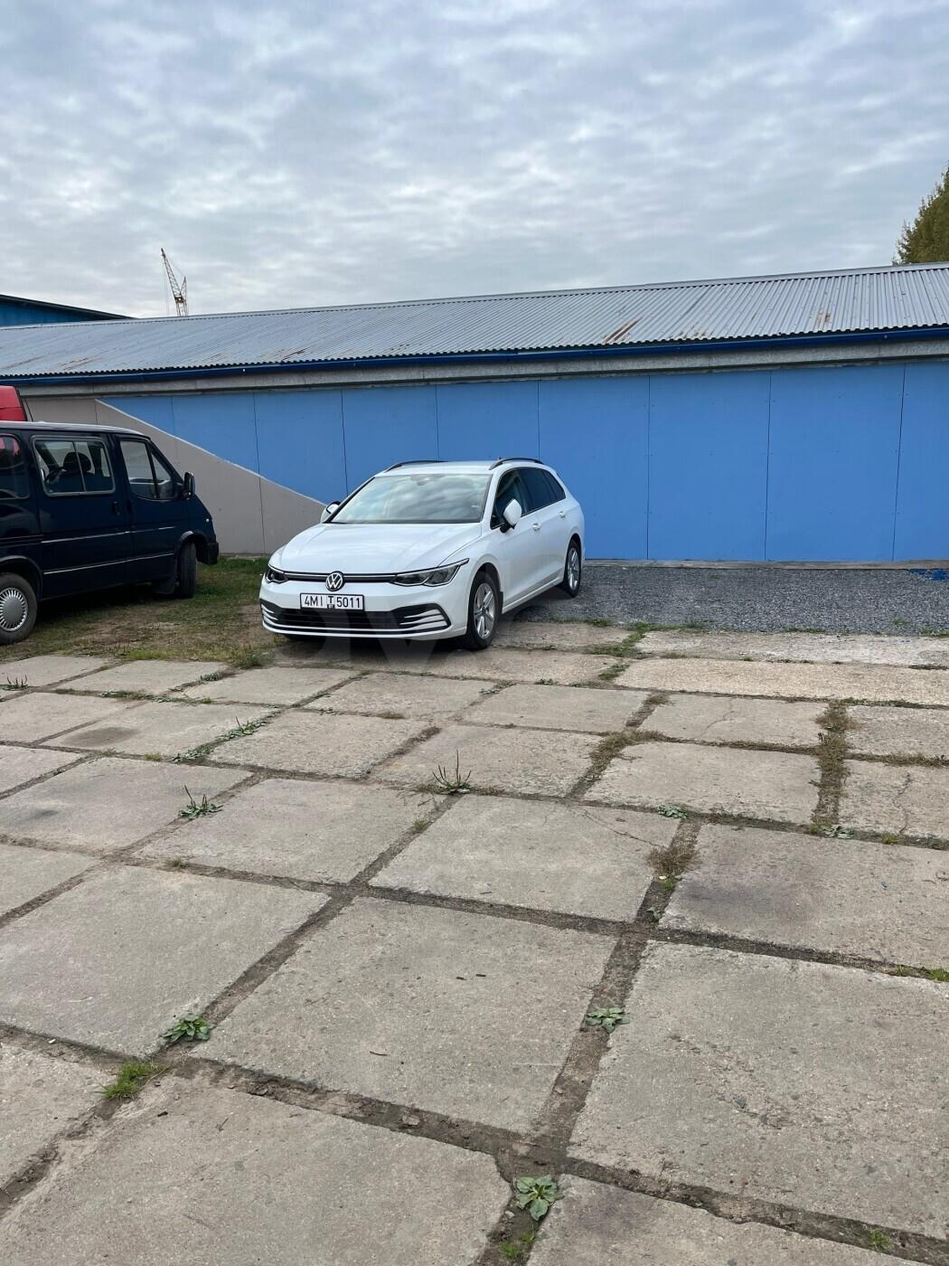Golf_2019: (257, 459, 589, 653)
